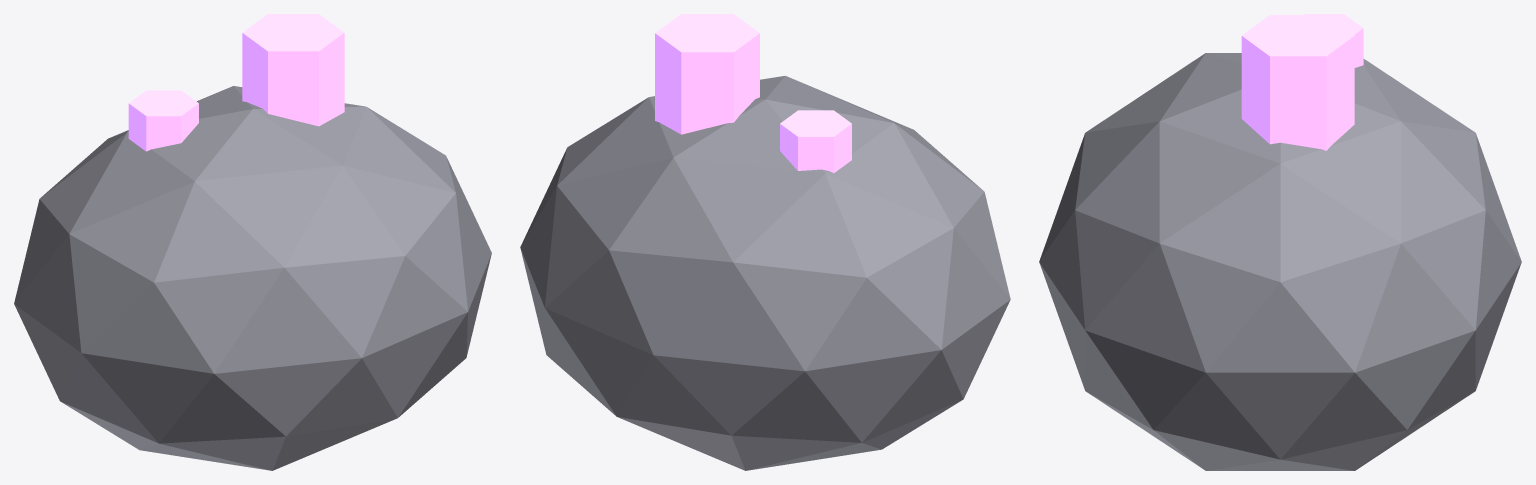
Rendered from OreTier4.fbx.
The picture shows the model from 3 angles, left to right: view 1: azimuth 30°, elevation 25°; view 2: azimuth 150°, elevation 25°; view 3: azimuth 270°, elevation 25°; orthographic projection. The views are drawn at different scales.
Visible parts, largest first — view 1: Rock, Crystal1, Crystal2; view 2: Rock, Crystal1, Crystal2; view 3: Rock, Crystal1, Crystal2.
Boxes of the visible parts, x1,y1,x2,y2 form: Rock: [14, 86, 491, 470]; Crystal1: [242, 14, 344, 126]; Crystal2: [128, 90, 198, 151]; Rock: [520, 75, 1010, 470]; Crystal1: [655, 14, 759, 134]; Crystal2: [780, 110, 851, 172]; Rock: [1039, 53, 1521, 470]; Crystal1: [1241, 15, 1354, 150]; Crystal2: [1304, 14, 1363, 67].
Size of the model in its own units: 2.97 by 2.75 by 2.73.
